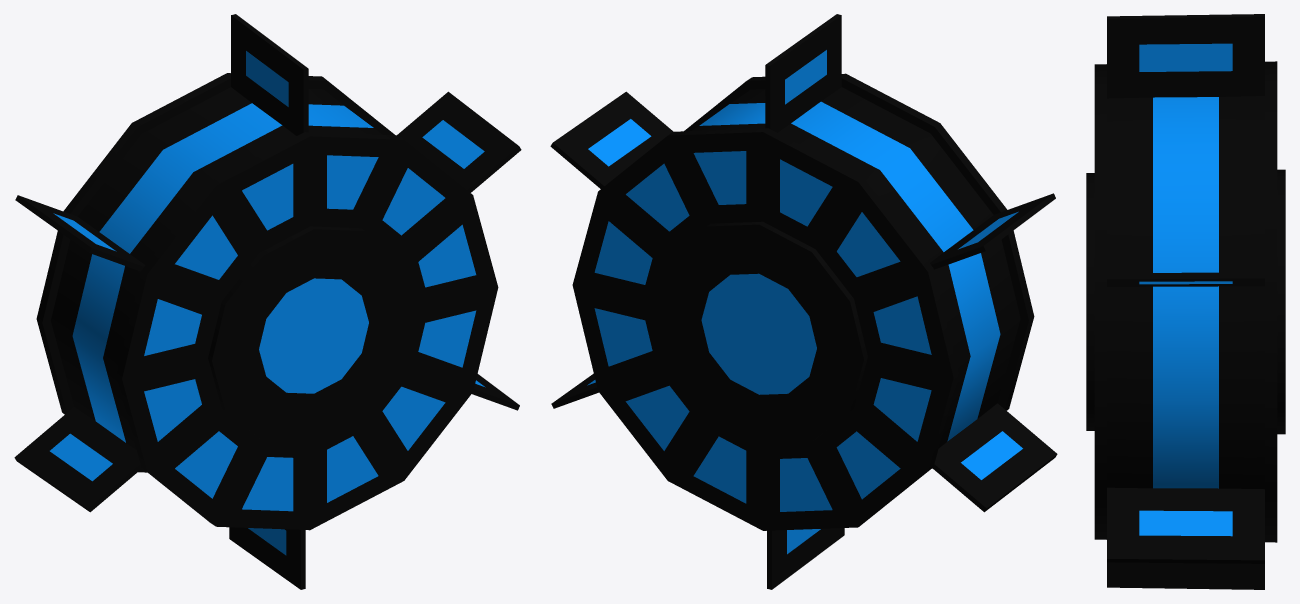
File: Rotating steps.FBX
The picture shows the model from 3 angles, left to right: view 1: azimuth 30°, elevation 25°; view 2: azimuth 150°, elevation 25°; view 3: azimuth 270°, elevation 25°; orthographic projection. The views are drawn at different scales.
Parts seen in each view (by area): view 1: rotating steps; view 2: rotating steps; view 3: rotating steps.
Boxes of the visible parts, <box> form: rotating steps: <box>14,14,521,589</box>; rotating steps: <box>550,14,1057,589</box>; rotating steps: <box>1086,14,1285,589</box>.
Bounding box in the file's own units: 433 × 496 × 156.
